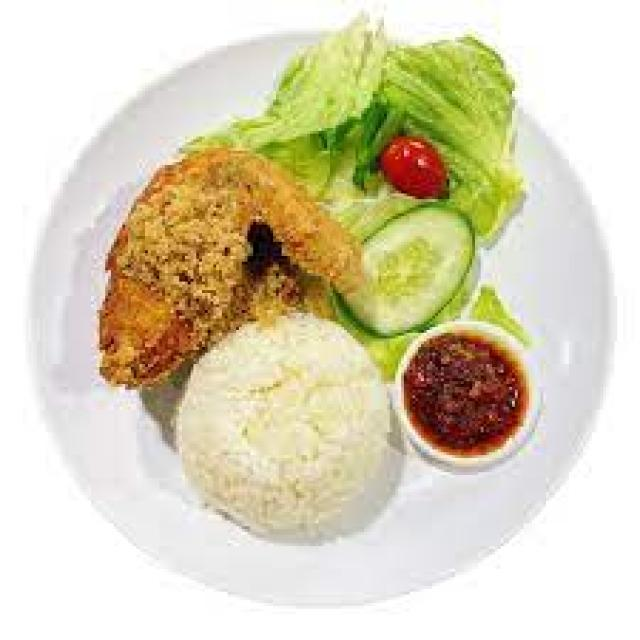Frango: (76, 154, 341, 378)
